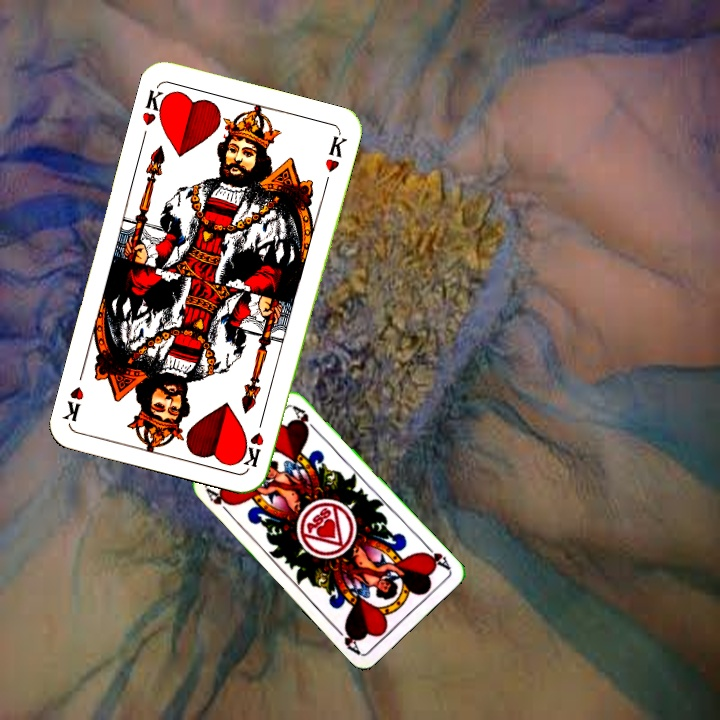HA: (418, 539, 453, 572), (202, 484, 234, 519)
HK: (239, 411, 267, 470), (138, 83, 172, 128)
